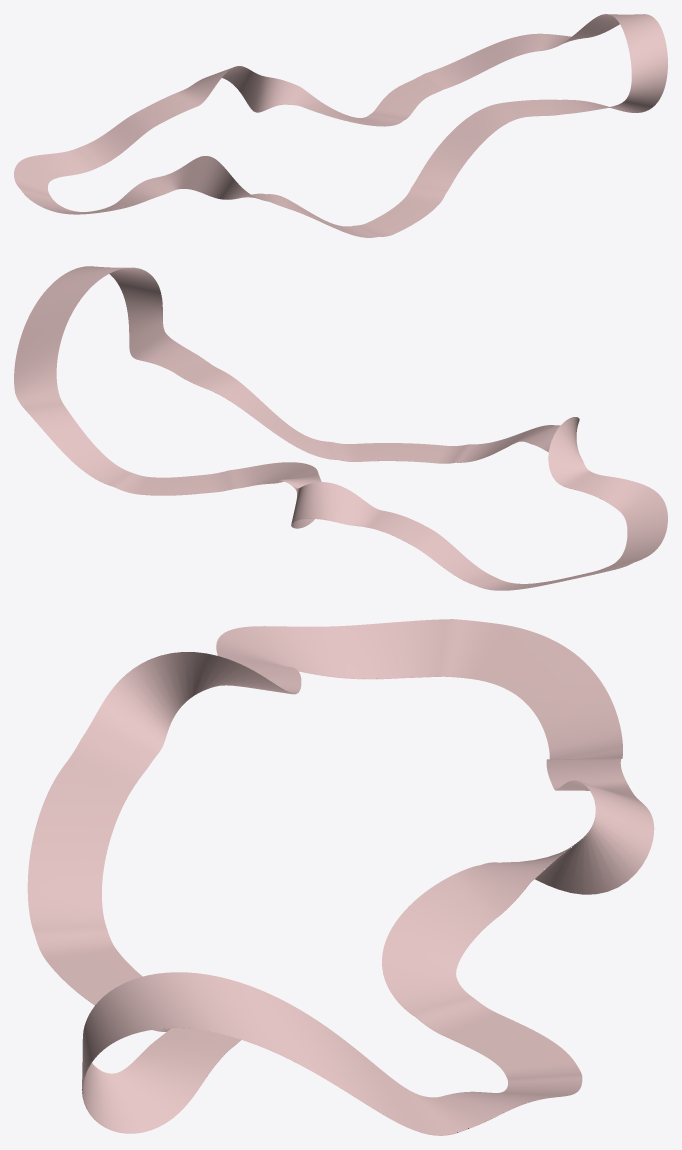
File: Track_Ribbon.fbx
3 views of the same model, one above another, from view 1: azimuth 30°, elevation 25°; view 2: azimuth 150°, elevation 25°; view 3: azimuth 270°, elevation 25° (orthographic). The views are drawn at different scales.
Parts seen in each view (by area): view 1: polySurface18; view 2: polySurface18; view 3: polySurface18.
Boxes of the visible parts, x1,y1,x2,y2 form: polySurface18: [14, 14, 667, 237]; polySurface18: [14, 266, 667, 590]; polySurface18: [27, 619, 654, 1135].
Bounding box in the file's own units: 300 × 59.72 × 140.
